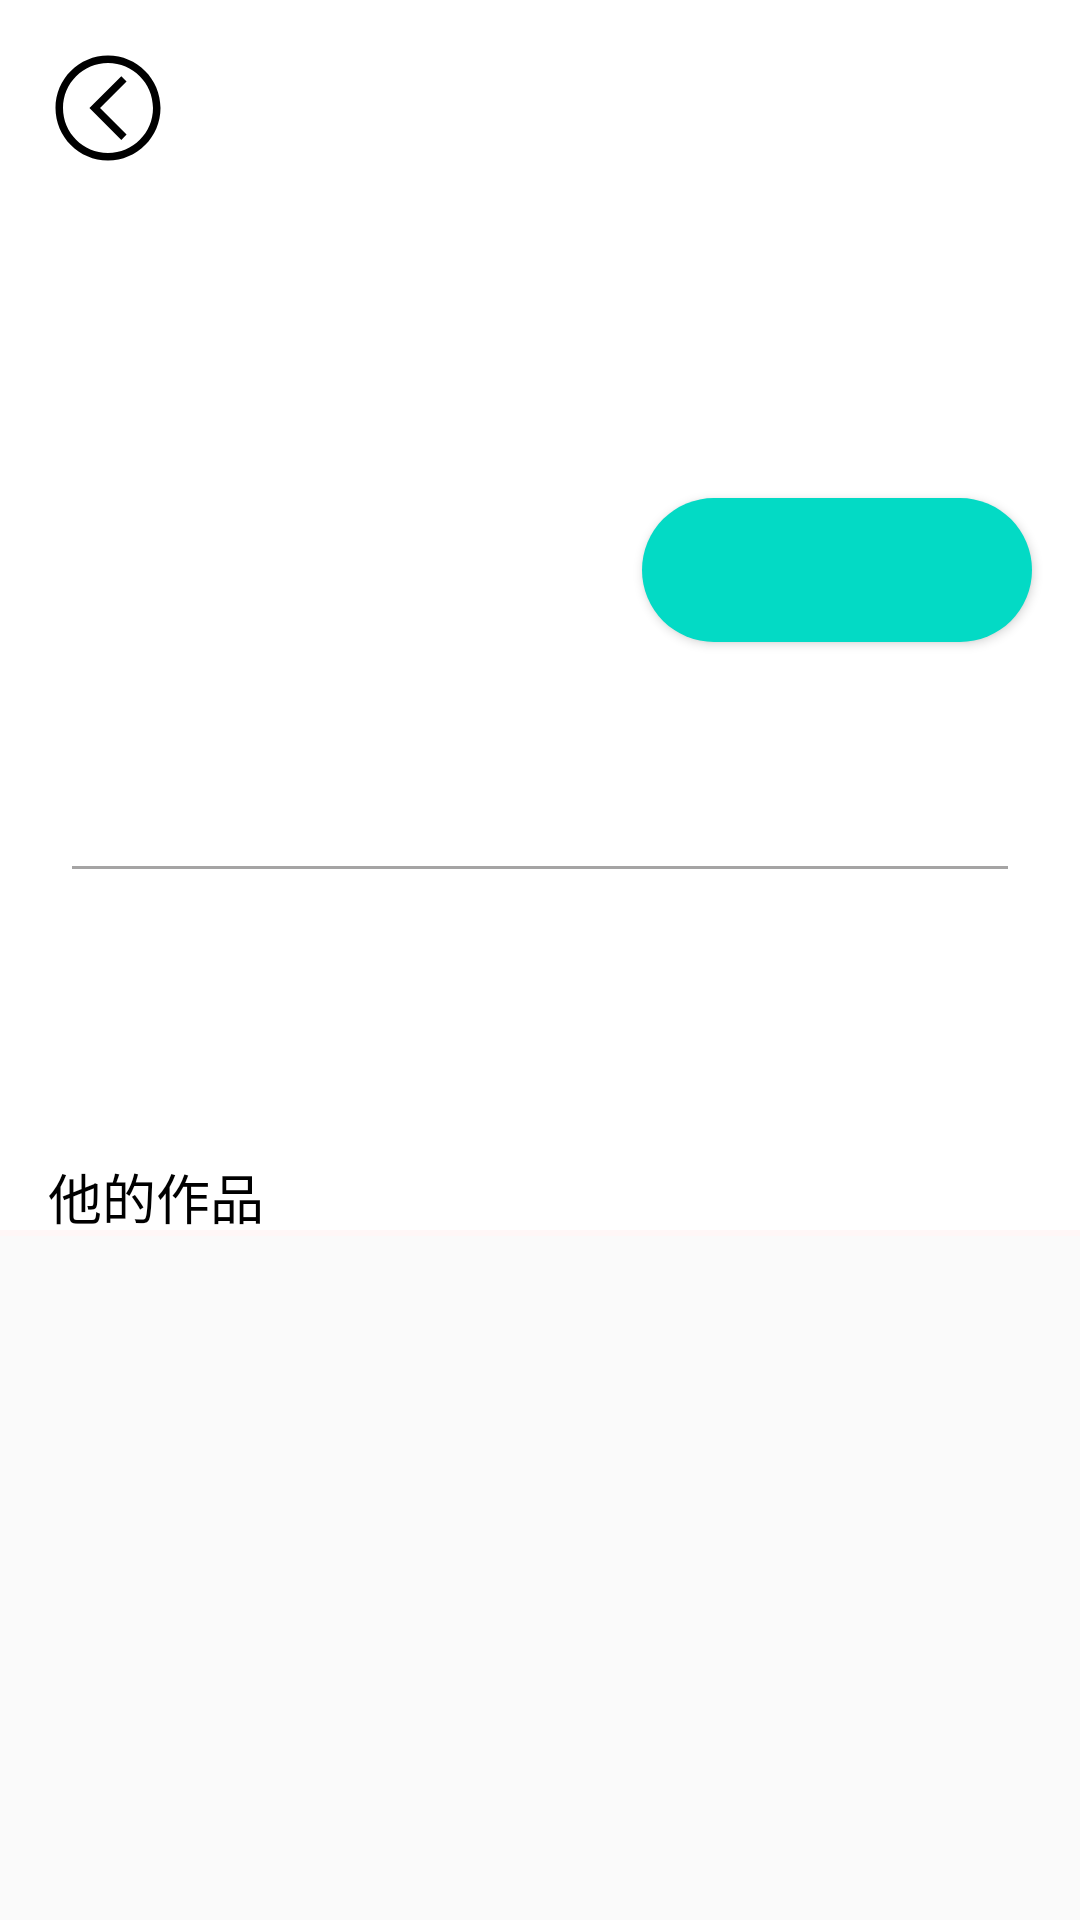

Where to tap for icons on this 1080px×1920px app screen, as (x,y):
return: (108,108)
